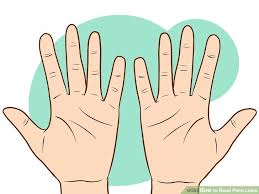palm: (49, 101, 123, 180), (145, 102, 222, 175)
